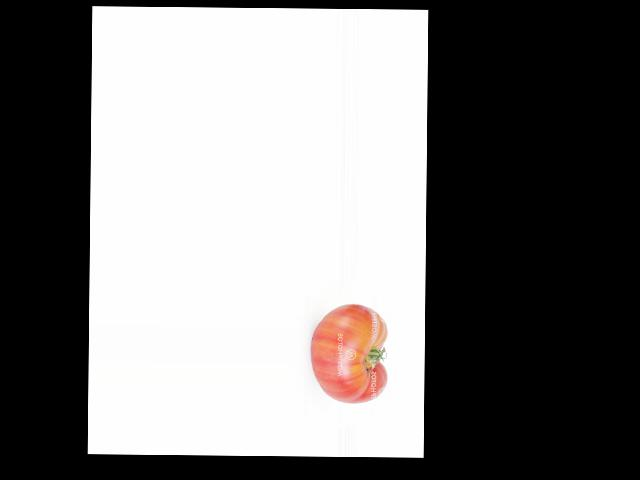tomato: (310, 303, 388, 403)
